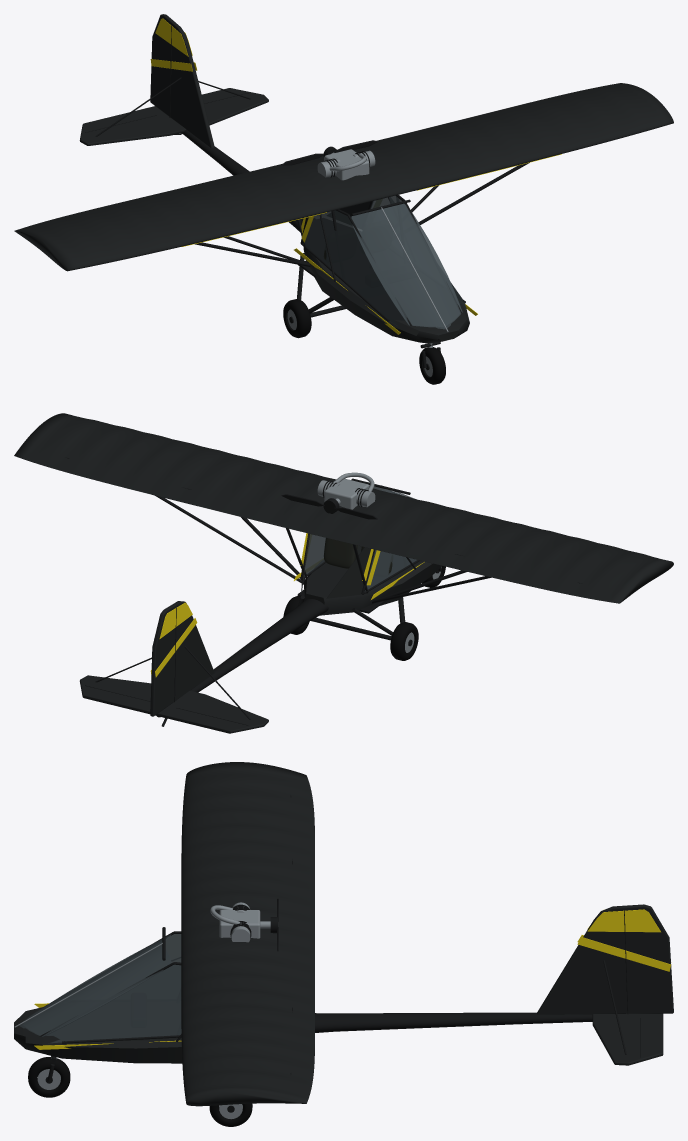
Rendered from nightjar_rw12.source.glb.
The picture shows the model from 3 angles, top to bottom: view 1: azimuth 30°, elevation 25°; view 2: azimuth 150°, elevation 25°; view 3: azimuth 270°, elevation 25°; orthographic projection. The views are drawn at different scales.
Parts seen in each view (by area): view 1: Continuous fabric high wing_export, Sloping curved windshield_export, Horizontal stabilizer_export, Cabin side glazing -1_export, Vertical tail fin_export, Tapered lower fuselage_export, Tapered tail boom_export, Main wheel -1 tire_export, Engine crankcase_export, Nose wheel tire_export; view 2: Continuous fabric high wing_export, Horizontal stabilizer_export, Vertical tail fin_export, Tapered lower fuselage_export, Tapered tail boom_export, Rear cabin fabric -1_export, Cabin side glazing -1_export, Seat back.001_export, Main wheel -1 tire_export, Engine crankcase_export, Cabin side glazing 1_export, Rear lift strut.001_export (+1 smaller); view 3: Continuous fabric high wing_export, Vertical tail fin_export, Cabin side glazing 1_export, Sloping curved windshield_export, Tapered tail boom_export, Tapered lower fuselage_export, Horizontal stabilizer_export, Yellow fin cap.001_export, Nose wheel tire_export, Tail diagonal yellow stripe.001_export, Engine crankcase_export.
Part boxes in pixels (x1,y1,x2,y2): Continuous fabric high wing_export: (14,83,673,271); Sloping curved windshield_export: (351,203,462,329); Horizontal stabilizer_export: (79,88,268,145); Cabin side glazing -1_export: (303,210,405,325); Vertical tail fin_export: (150,14,214,147); Tapered lower fuselage_export: (303,247,469,343); Tapered tail boom_export: (182,129,302,232); Main wheel -1 tire_export: (283,299,311,338); Engine crankcase_export: (324,149,369,180); Nose wheel tire_export: (419,347,445,384); Continuous fabric high wing_export: (14,413,673,603); Horizontal stabilizer_export: (79,675,268,733); Vertical tail fin_export: (150,601,214,716); Tapered lower fuselage_export: (303,545,441,615); Tapered tail boom_export: (157,599,328,717); Rear cabin fabric -1_export: (326,547,370,598); Cabin side glazing -1_export: (364,550,416,591); Seat back.001_export: (324,538,357,568); Main wheel -1 tire_export: (390,622,418,660); Engine crankcase_export: (324,478,369,509); Cabin side glazing 1_export: (304,534,325,576); Rear lift strut.001_export: (155,495,303,584); Continuous fabric high wing_export: (181,762,314,1106); Vertical tail fin_export: (537,904,673,1014); Cabin side glazing 1_export: (46,964,181,1043); Sloping curved windshield_export: (19,934,171,1036); Tapered tail boom_export: (315,1012,592,1032); Tapered lower fuselage_export: (14,1007,182,1063); Horizontal stabilizer_export: (592,1013,663,1065); Yellow fin cap.001_export: (587,909,660,932); Nose wheel tire_export: (28,1057,70,1097); Tail diagonal yellow stripe.001_export: (577,937,671,971); Engine crankcase_export: (219,910,260,938).
Size of the model in its own units: 8.6 by 2.34 by 7.3.
